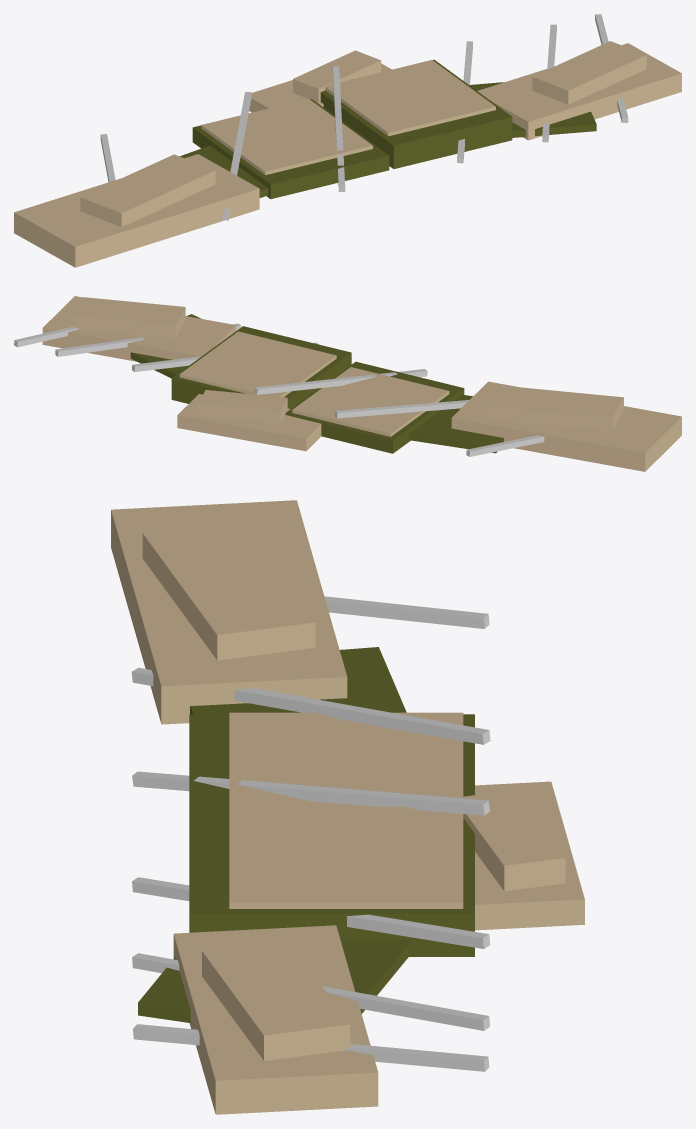
The model's file is SM_HescoCorto2_v1_Geotextil_e3_Brecha_LOD0.fbx.
3 views of the same model, one above another, from view 1: azimuth 30°, elevation 25°; view 2: azimuth 150°, elevation 25°; view 3: azimuth 270°, elevation 25° (orthographic). The views are drawn at different scales.
Visible parts, largest first — view 1: SM_hesco_piezas_v67_LOD0; view 2: SM_hesco_piezas_v67_LOD0; view 3: SM_hesco_piezas_v67_LOD0.
Boxes of the visible parts, x1,y1,x2,y2 form: SM_hesco_piezas_v67_LOD0: [14, 14, 681, 267]; SM_hesco_piezas_v67_LOD0: [14, 296, 681, 471]; SM_hesco_piezas_v67_LOD0: [111, 500, 584, 1114].
Size of the model in its own units: 5.83 by 0.3263 by 2.02.
